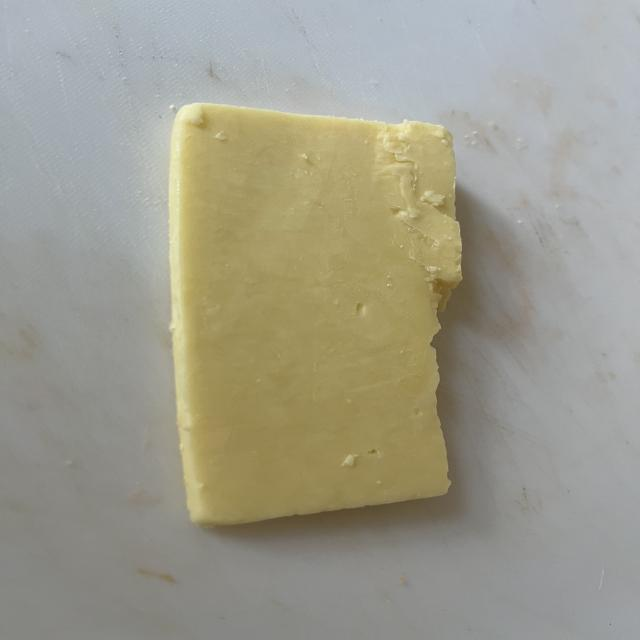cheese: (170, 103, 461, 526)
